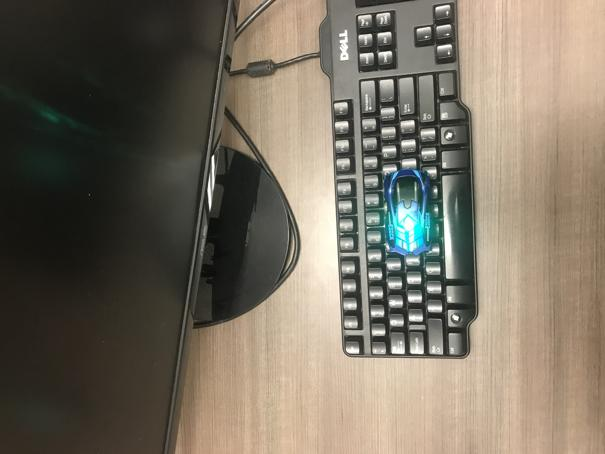Shock: (386, 169, 438, 257)
